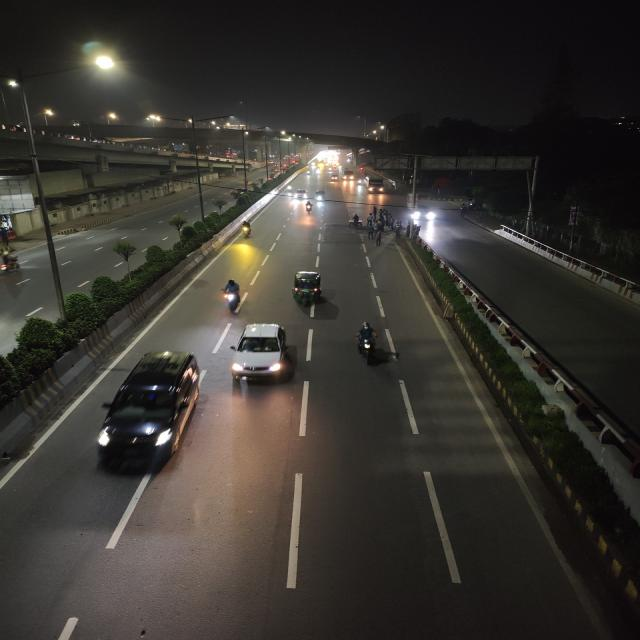car: (88, 345, 206, 478), (227, 320, 296, 388), (294, 186, 310, 198)
cng: (288, 268, 327, 312)
motorcycle: (350, 320, 386, 368), (215, 277, 248, 317), (237, 219, 254, 241), (303, 199, 314, 214)
pedestrian: (374, 232, 384, 248), (369, 205, 378, 219), (394, 223, 401, 239), (366, 213, 374, 226), (368, 224, 374, 239)
rickshaw: (345, 217, 364, 230)
truck: (365, 178, 386, 195)
